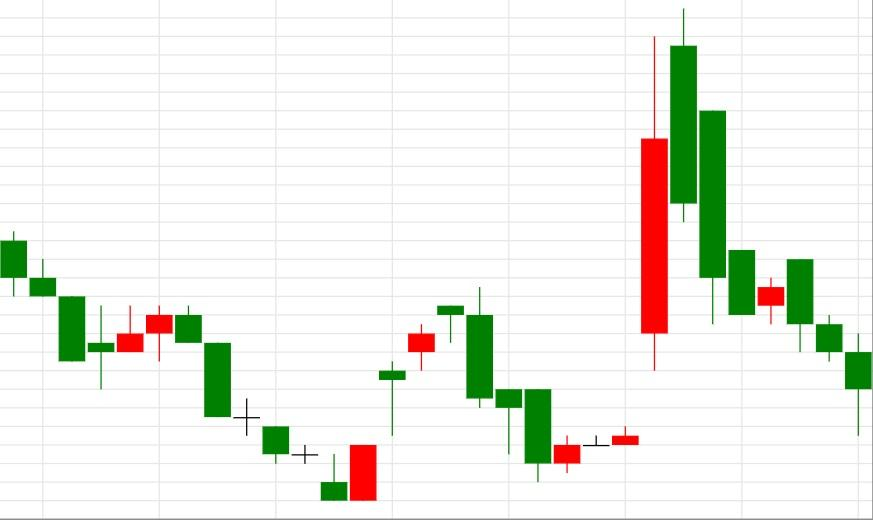bullish_engulfing_rise: (145, 305, 378, 501)
